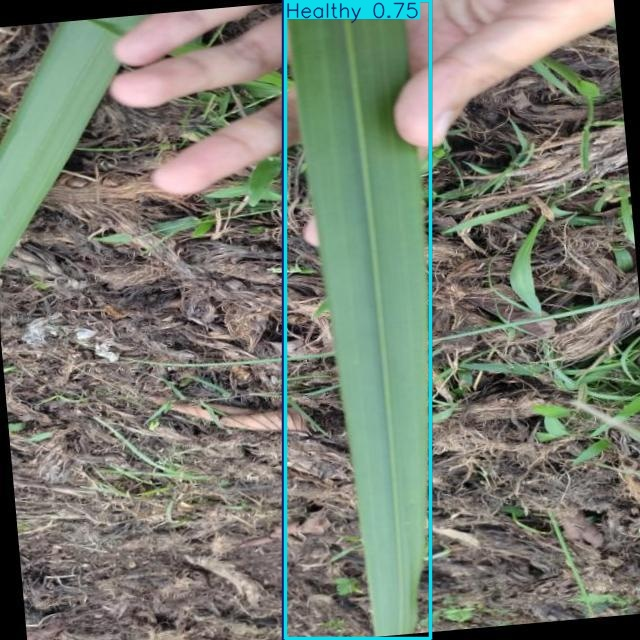Healthy: (285, 0, 431, 639)
nitrogen: (283, 0, 431, 639)
